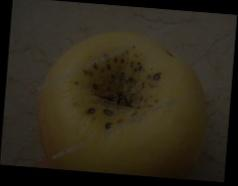rotten apple: (36, 31, 206, 174)
